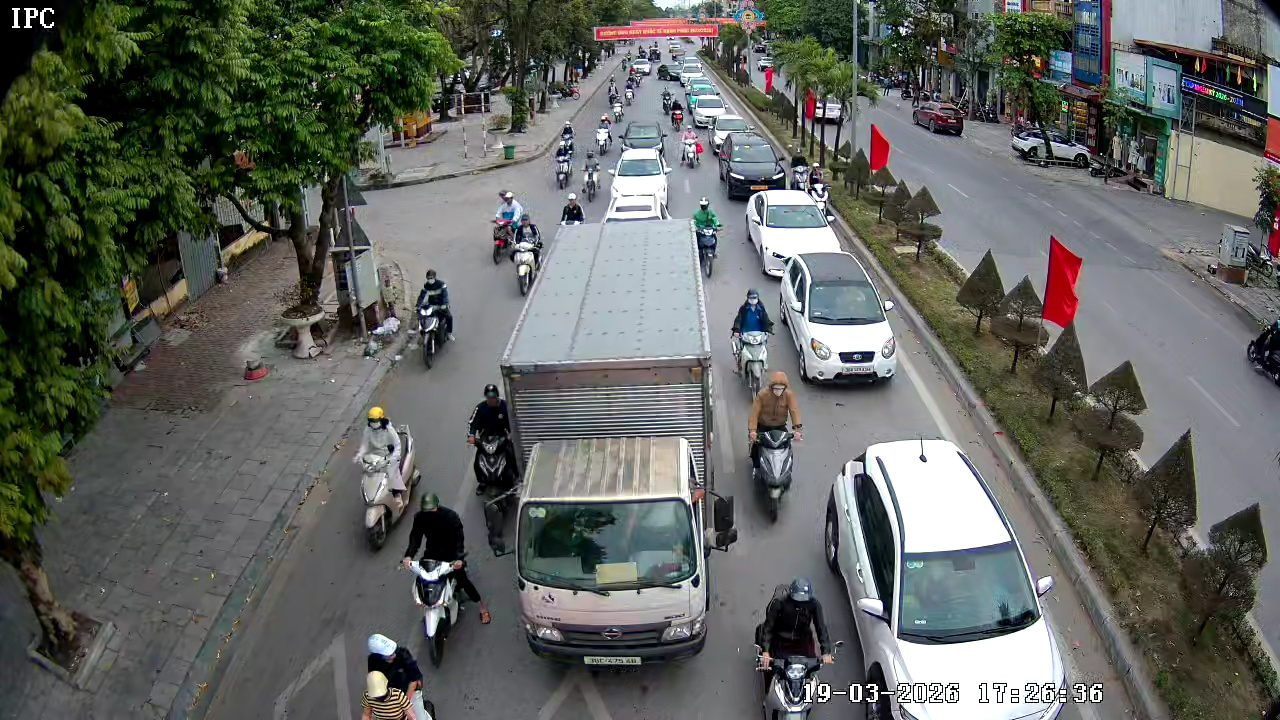car: (768, 438, 1073, 719), (776, 253, 897, 385), (744, 190, 839, 278), (719, 134, 787, 199), (605, 150, 673, 214), (601, 192, 671, 226)
motorbike: (399, 488, 493, 665), (751, 578, 848, 719), (354, 405, 417, 552), (746, 369, 803, 522), (466, 383, 518, 497), (729, 288, 775, 391), (413, 268, 456, 370), (510, 208, 541, 296), (690, 197, 722, 275), (489, 189, 522, 264), (553, 128, 580, 190), (580, 147, 603, 199), (680, 127, 706, 168), (595, 111, 612, 152), (610, 93, 626, 123), (673, 99, 685, 132), (661, 86, 674, 113)
truck: (505, 221, 727, 659)
